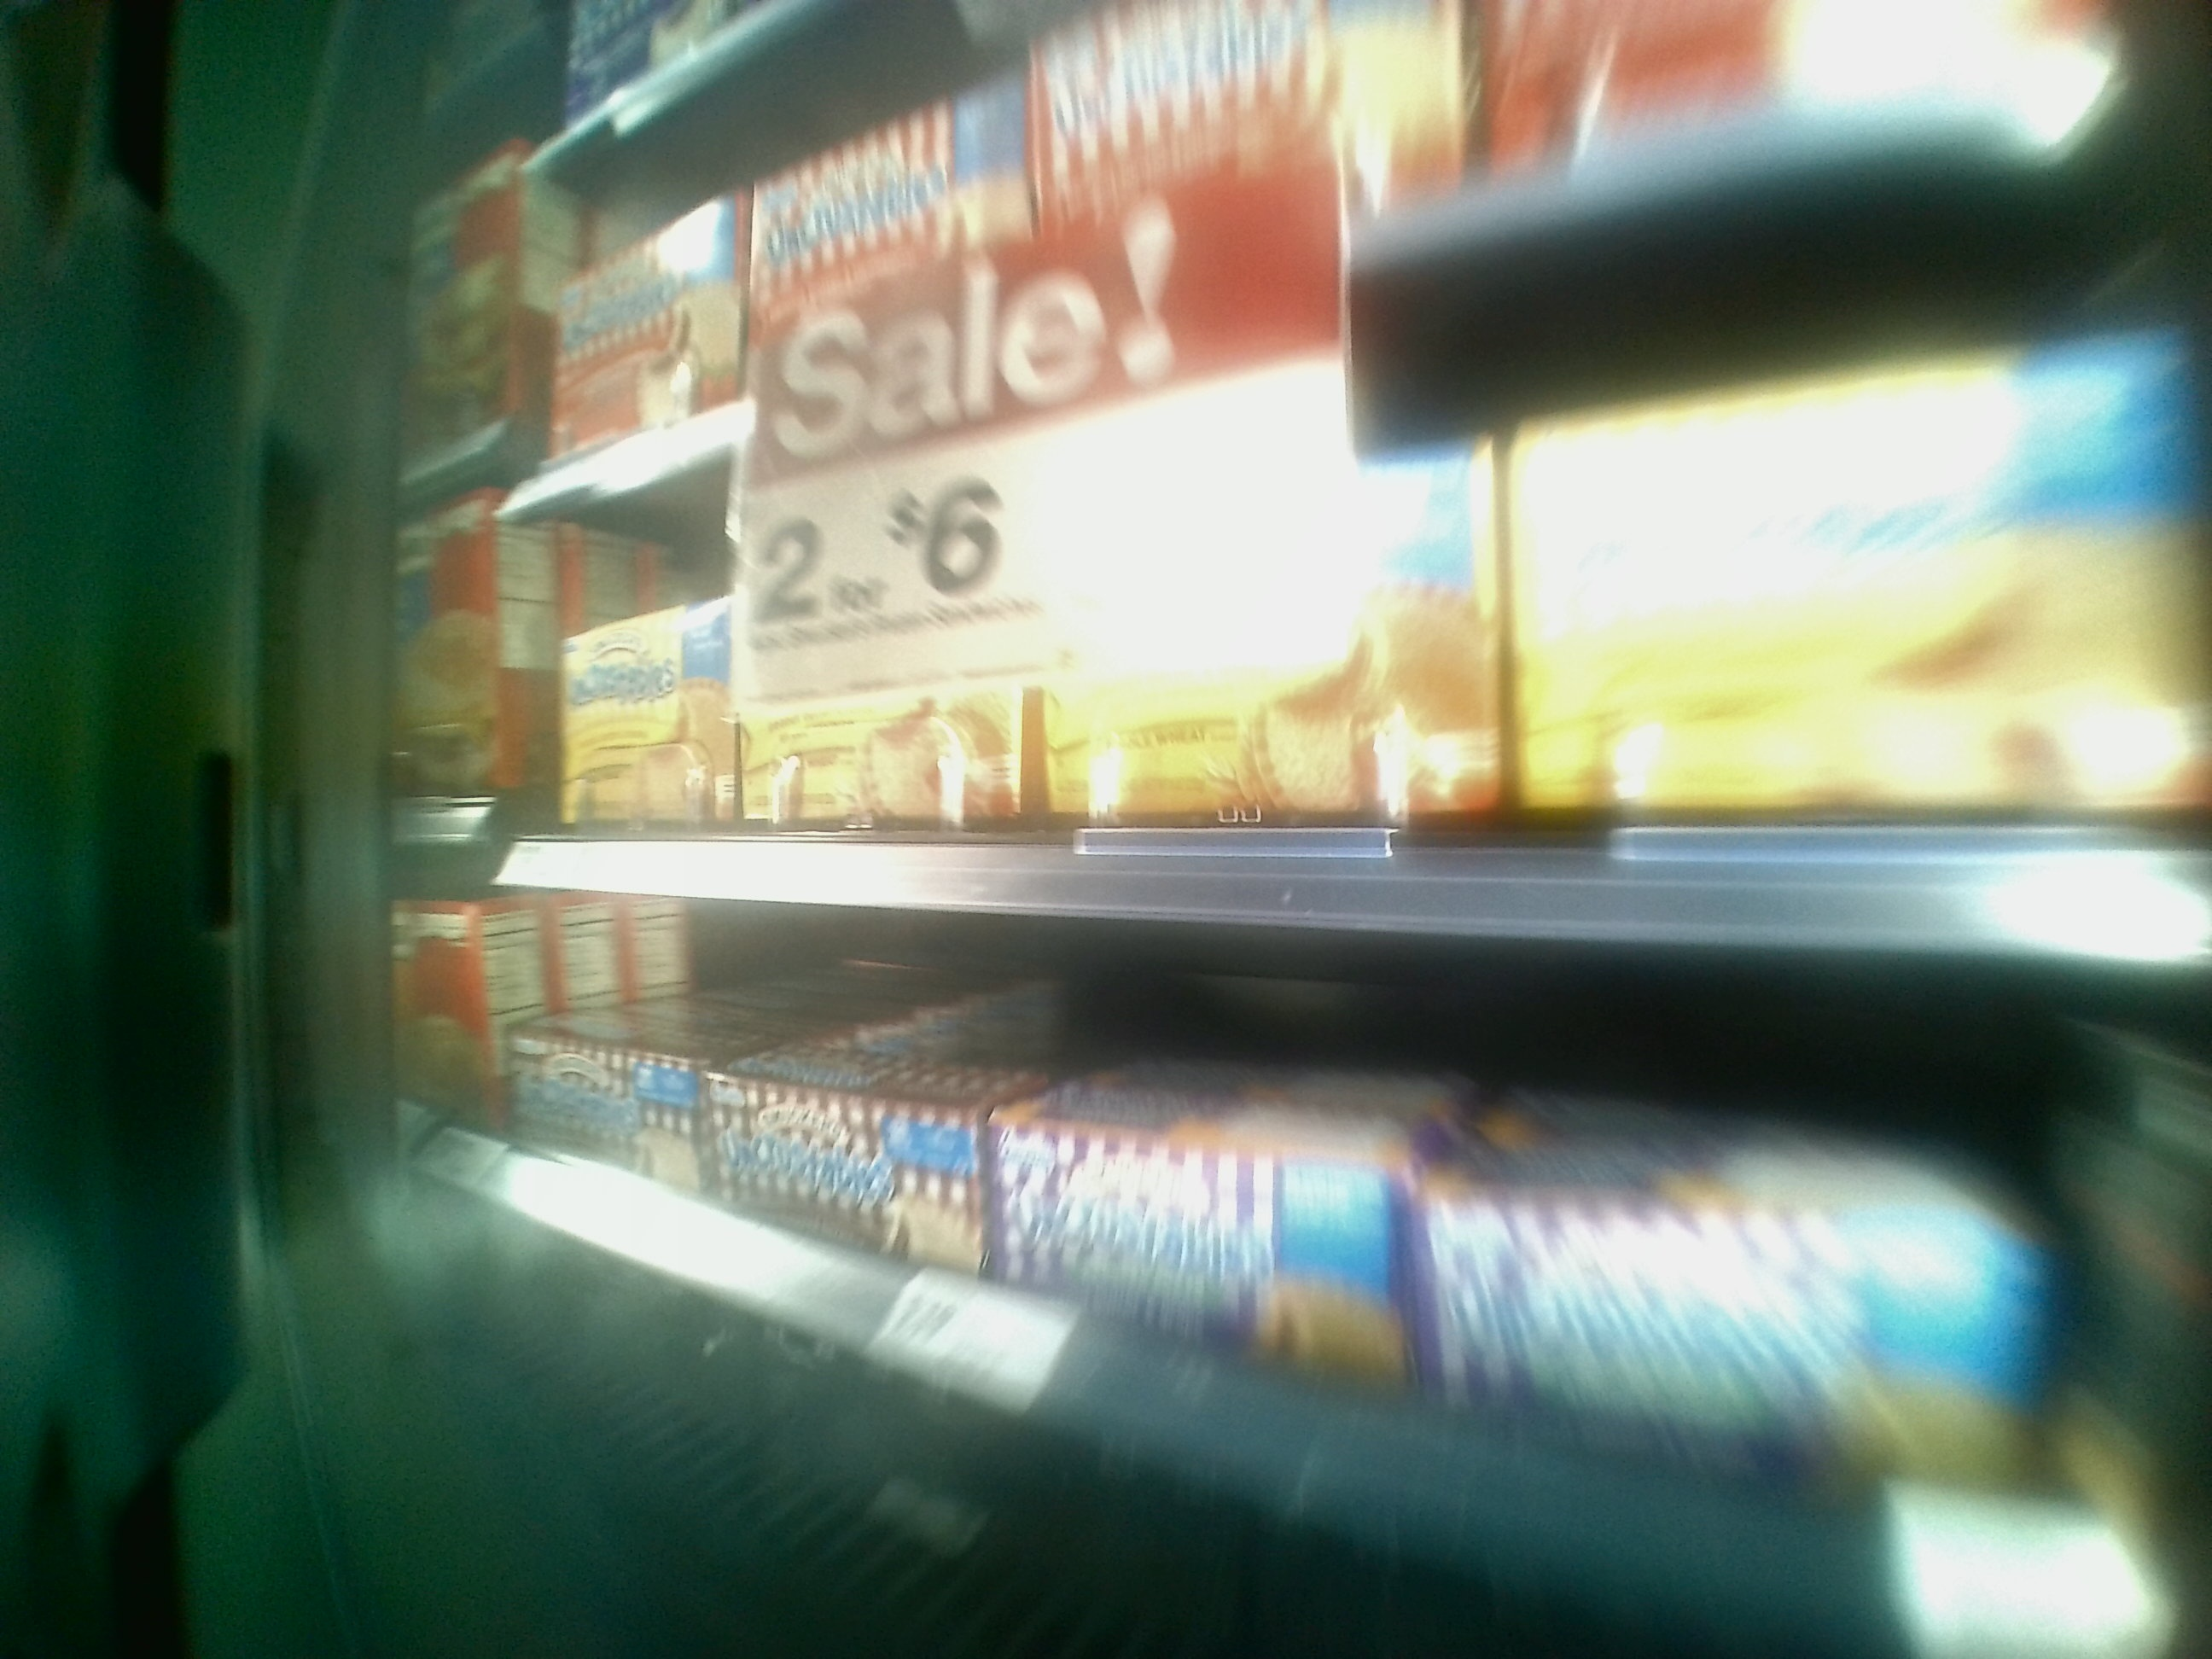shelf: (495, 861, 2128, 1608), (552, 349, 2181, 882)
